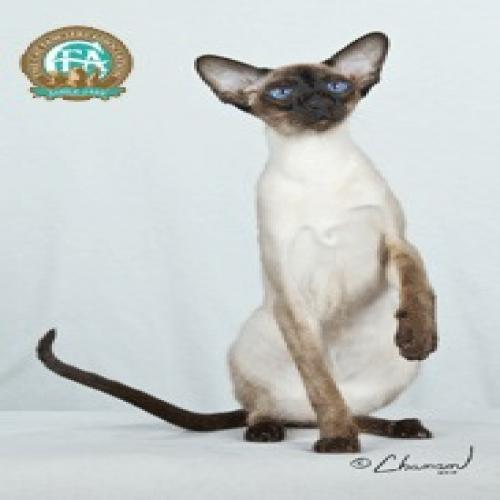siamese: (191, 29, 405, 144)
